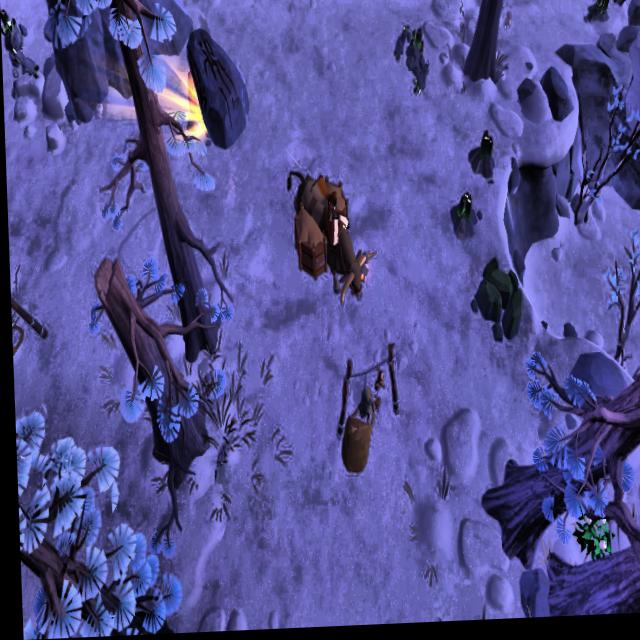fiber_t3: (570, 521, 610, 567)
ore_t3: (453, 195, 474, 232), (476, 132, 495, 166), (596, 0, 613, 30)
rock_t3: (467, 257, 522, 344)
